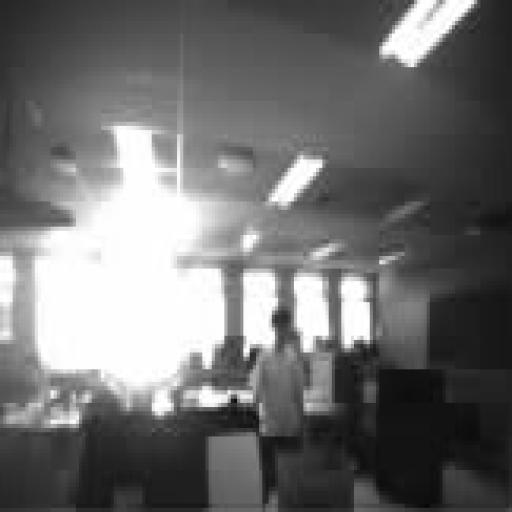human: (250, 307, 303, 499)
